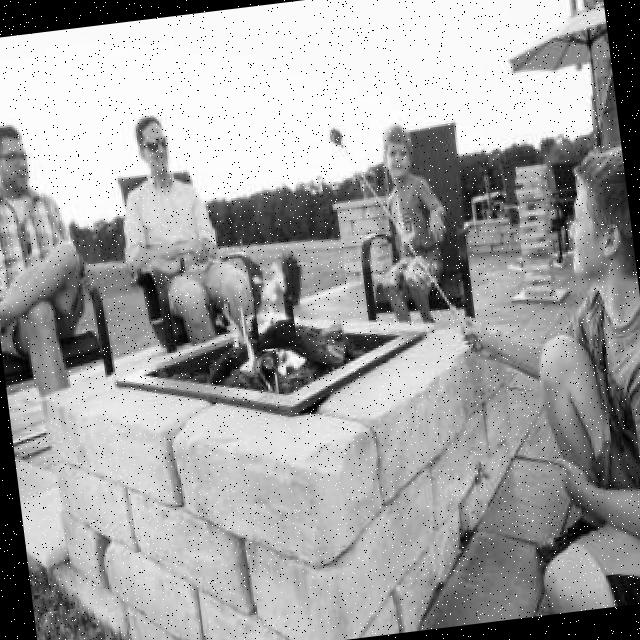fire: (250, 258, 296, 350)
